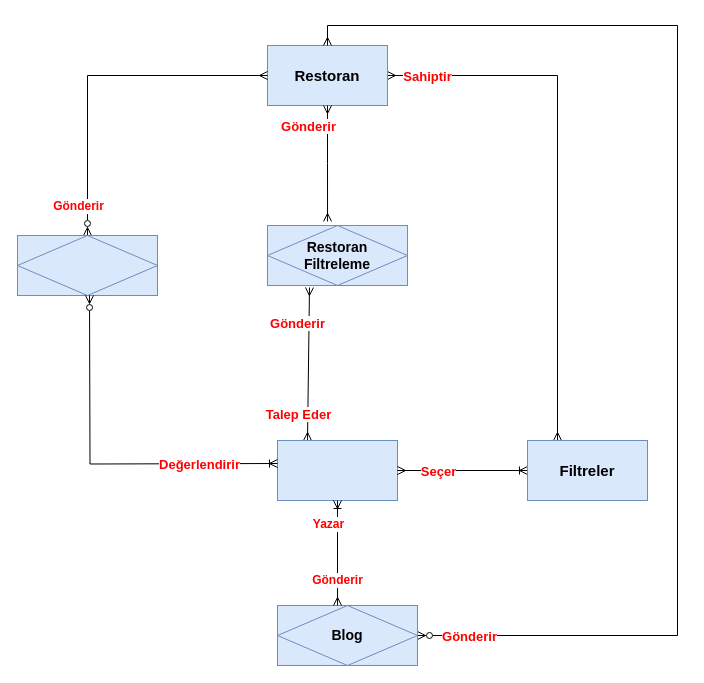
This 704x683 diagram has some shape labels left out. Each missing label, with the centre of its shape:
Müşteri: point 337,470
Restoran Değerlendirme: point 87,265
